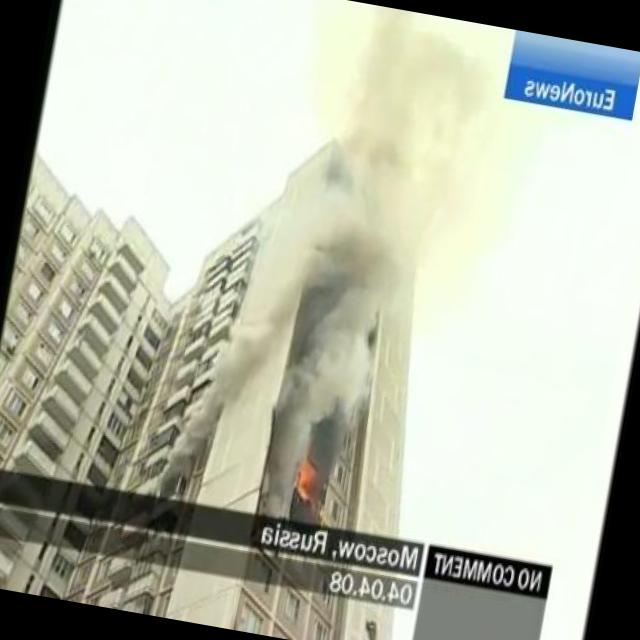fire: (290, 448, 320, 499)
